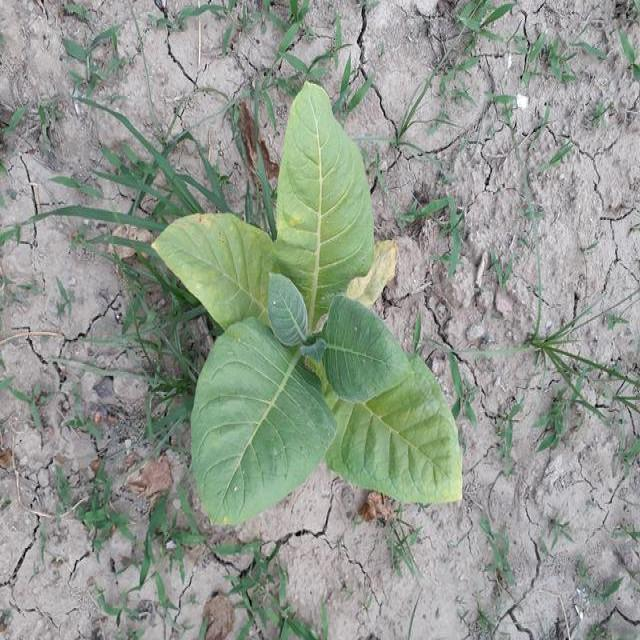crop: (173, 100, 470, 526)
